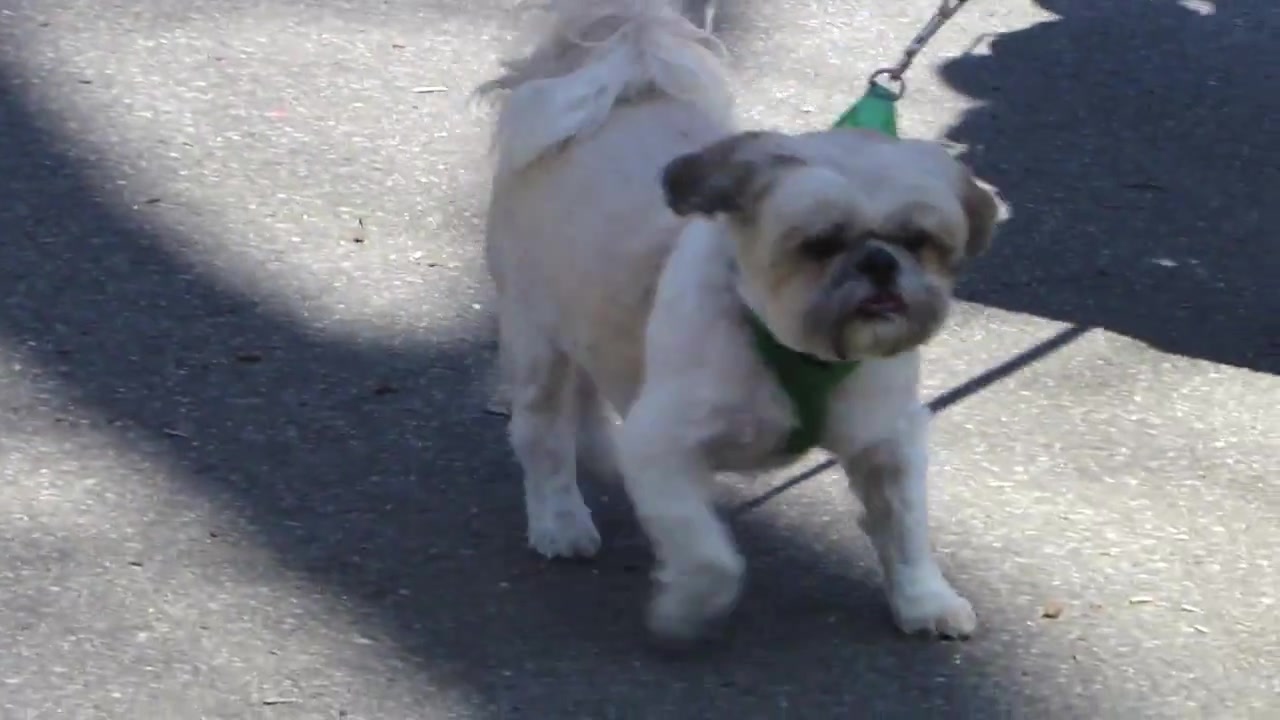dog: (466, 1, 1012, 639)
